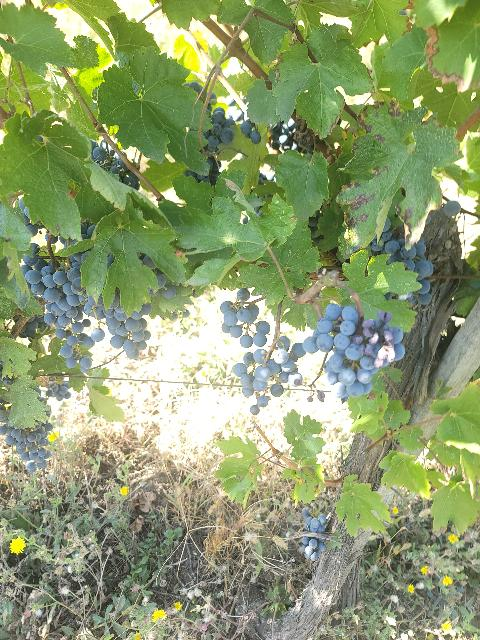grapes: (302, 304, 405, 399), (21, 256, 104, 372), (232, 336, 305, 415), (0, 389, 52, 474), (220, 301, 270, 348)
